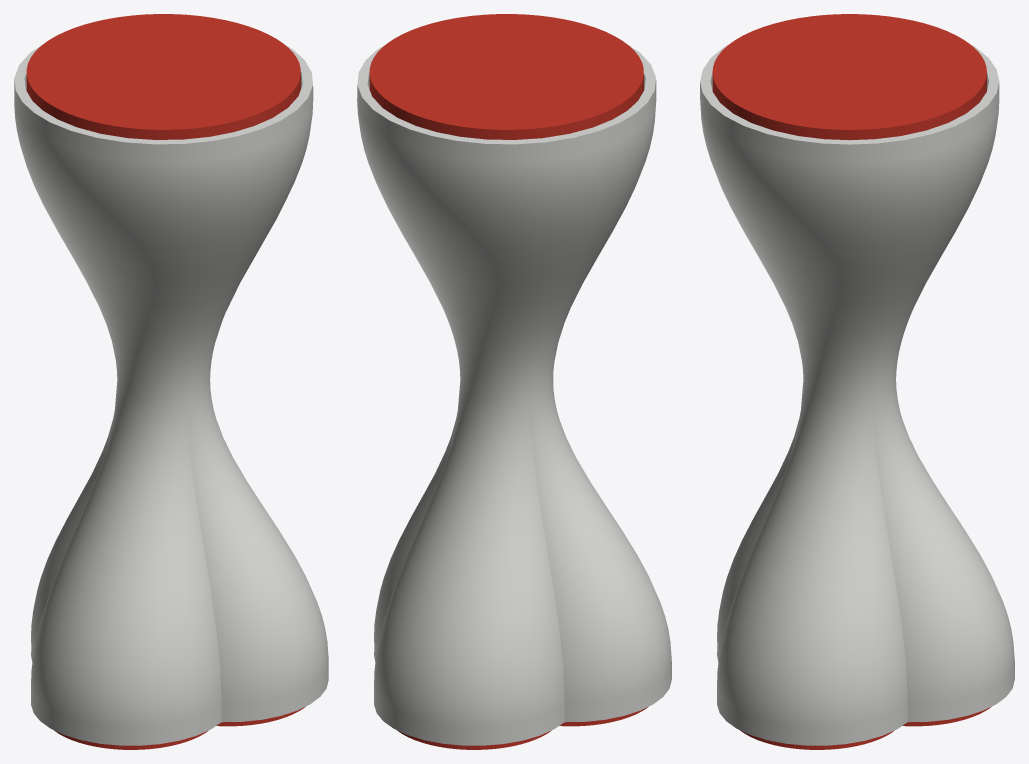
The model's file is HOUR-GLASS-CIRCLE-55 v1.fbx.
3 renders of one model, left to right at view 1: azimuth 30°, elevation 25°; view 2: azimuth 150°, elevation 25°; view 3: azimuth 270°, elevation 25°, orthographic.
Visible parts, largest first — view 1: Body1, Body3, Body2; view 2: Body1, Body3, Body2; view 3: Body1, Body3, Body2.
Boxes of the visible parts, box(x1,y1,x2,y2) form: Body1: box(14, 44, 328, 745); Body3: box(26, 14, 300, 139); Body2: box(54, 706, 305, 749); Body1: box(357, 45, 671, 745); Body3: box(369, 14, 643, 139); Body2: box(397, 707, 647, 749); Body1: box(700, 45, 1014, 745); Body3: box(712, 14, 986, 140); Body2: box(740, 707, 990, 749).
Size of the model in its own units: 30.3 by 66 by 30.5.
